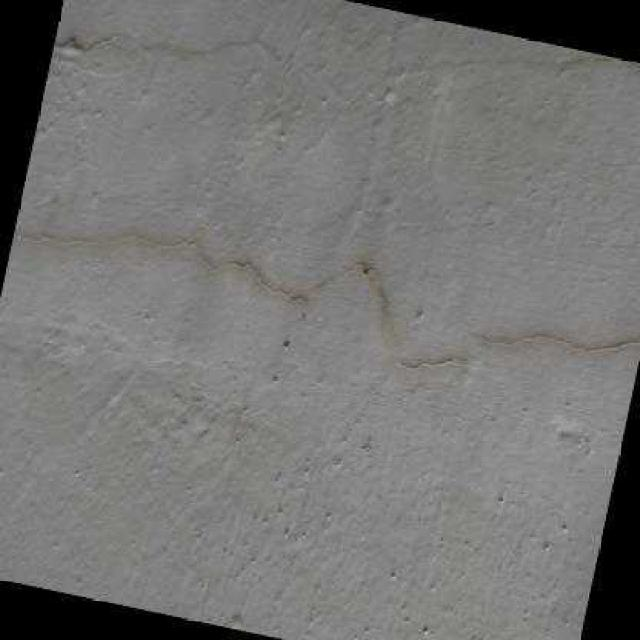D00: (16, 225, 290, 304), (313, 258, 451, 373), (481, 328, 635, 354), (55, 29, 108, 60)
